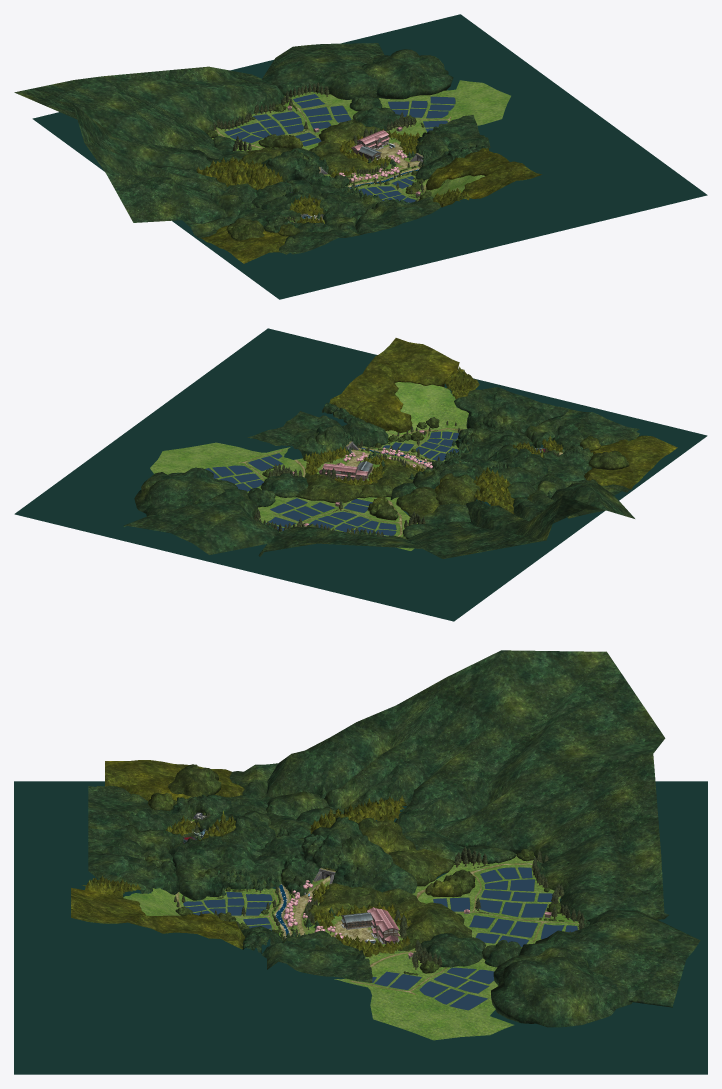
3 views of the same model, one above another, from view 1: azimuth 30°, elevation 25°; view 2: azimuth 150°, elevation 25°; view 3: azimuth 270°, elevation 25° (orthographic). The views are drawn at different scales.
Visible parts, largest first — view 1: ground11, forest02, forest01, ground01, farm01, forest06, forest10, forest07, forest12, forest05, forest04, Cedar_forest_org28 (+12 smaller); view 2: ground11, forest02, forest01, forest10, forest12, ground01, forest07, forest05, farm01, ground06, forest06, forest03 (+10 smaller); view 3: ground11, forest02, forest01, forest06, ground01, forest07, farm01, forest12, forest10, forest04, forest05, forest03 (+12 smaller).
Boxes of the visible parts, left/top/right/bottom form: ground11: left=32, top=14, right=707, bottom=299; forest02: left=14, top=66, right=283, bottom=223; forest01: left=262, top=43, right=453, bottom=130; ground01: left=212, top=80, right=510, bottom=151; farm01: left=224, top=94, right=455, bottom=146; forest06: left=261, top=147, right=389, bottom=219; forest10: left=426, top=148, right=541, bottom=207; forest07: left=233, top=179, right=362, bottom=233; forest12: left=279, top=196, right=440, bottom=254; forest05: left=415, top=115, right=490, bottom=180; forest04: left=309, top=115, right=416, bottom=174; Cedar_forest_org28: left=196, top=156, right=282, bottom=190; ground11: left=14, top=328, right=707, bottom=621; forest02: left=258, top=482, right=634, bottom=558; forest01: left=123, top=467, right=308, bottom=554; forest10: left=329, top=338, right=479, bottom=433; forest12: left=454, top=387, right=639, bottom=445; ground01: left=150, top=442, right=417, bottom=550; forest07: left=476, top=415, right=593, bottom=485; forest05: left=247, top=402, right=388, bottom=460; farm01: left=205, top=453, right=396, bottom=536; ground06: left=373, top=382, right=468, bottom=461; forest06: left=390, top=427, right=535, bottom=499; forest03: left=307, top=473, right=480, bottom=539; ground11: left=14, top=781, right=707, bottom=1074; forest02: left=266, top=650, right=668, bottom=921; forest01: left=421, top=910, right=700, bottom=1027; forest06: left=169, top=817, right=417, bottom=900; ground01: left=340, top=854, right=578, bottom=1040; forest07: left=89, top=794, right=312, bottom=862; farm01: left=370, top=867, right=577, bottom=1010; forest12: left=88, top=785, right=179, bottom=894; forest10: left=71, top=875, right=244, bottom=949; forest04: left=308, top=883, right=471, bottom=973; forest05: left=241, top=926, right=372, bottom=982; forest03: left=358, top=817, right=564, bottom=913.
Size of the model in its own units: 13.52 by 2.25 by 12.
22 materials, 19 textured.
